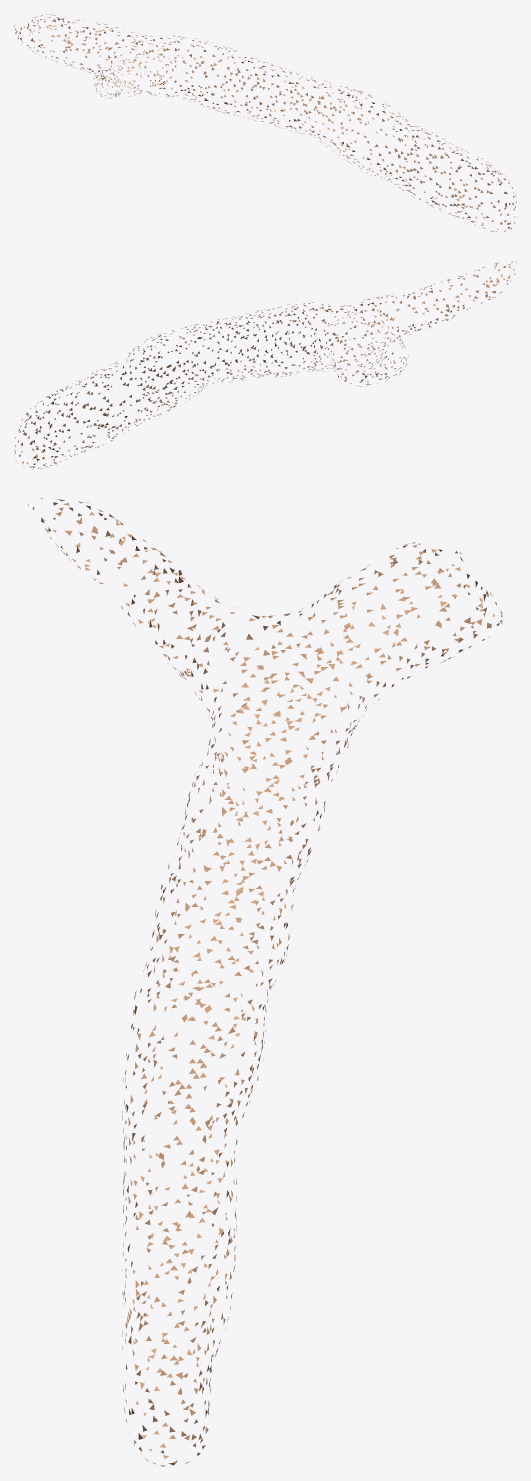
File: morph_005.glb
The picture shows the model from 3 angles, top to bottom: view 1: azimuth 30°, elevation 25°; view 2: azimuth 150°, elevation 25°; view 3: azimuth 270°, elevation 25°; orthographic projection. The views are drawn at different scales.
Size of the model in its own units: 104 by 62.74 by 48.64.
